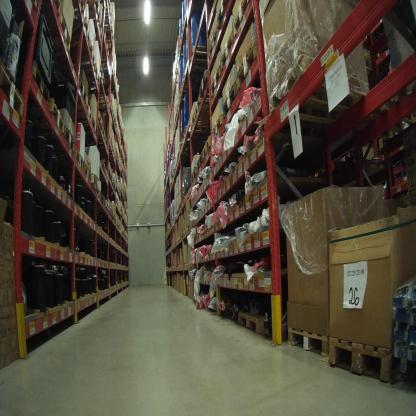pallet: (267, 46, 370, 130), (328, 330, 389, 389), (374, 65, 414, 134), (235, 43, 266, 96), (286, 323, 328, 361), (3, 59, 28, 121), (235, 307, 281, 339), (44, 13, 72, 54), (33, 57, 51, 105), (60, 76, 88, 106), (45, 96, 66, 135), (231, 3, 251, 40), (179, 125, 216, 145), (219, 33, 237, 74), (78, 61, 100, 91), (67, 37, 94, 61), (222, 83, 238, 121), (197, 69, 215, 102), (193, 96, 221, 117), (190, 109, 217, 130), (209, 66, 229, 92), (215, 0, 232, 30), (189, 45, 211, 66), (210, 112, 224, 144), (76, 100, 94, 124), (65, 122, 77, 153), (206, 33, 222, 56), (67, 1, 85, 17), (84, 120, 99, 139), (202, 135, 211, 163), (76, 146, 86, 170), (46, 1, 63, 15), (91, 172, 101, 194), (84, 162, 93, 182), (96, 111, 105, 129), (27, 1, 41, 11), (197, 153, 203, 175), (101, 158, 108, 175), (192, 166, 198, 185), (99, 191, 106, 206), (105, 199, 111, 213), (101, 127, 107, 140), (105, 168, 109, 185), (105, 140, 109, 152)
